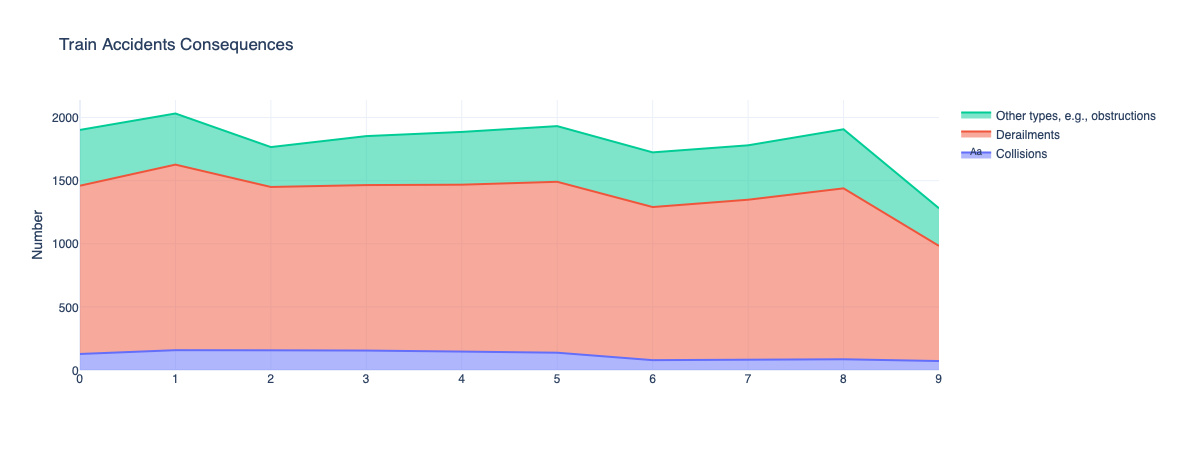

The page's visual inventory and layout, read from the dashboard file:
{"tool":"tableau","page":{"name":"Event_Dash","canvas":[1266,668],"ordinal":0},"visuals":[{"type":"legend","title":"Event","param":"[federated.0ajpbn71g3tkoe11lcg210ykgytw].[none:CICTTEvent:nk]","box":[972,30,279,201]},{"type":"worksheet","title":"Event","mark":"Area","rows":["CICTTEvent"],"cols":["ev_date"],"box":[20,34,1103,564]}]}

Visuals, with their boxes on the page's 1266x668 design canvas (x1, y1, x2, y2). These are canvas units, not pixel positions in the 1184x450 screenshot, which may show the page scaled, cropped or inside an application window:
"Event" legend: 972 30 1251 231
"Event" worksheet (Area marks): 20 34 1123 598
